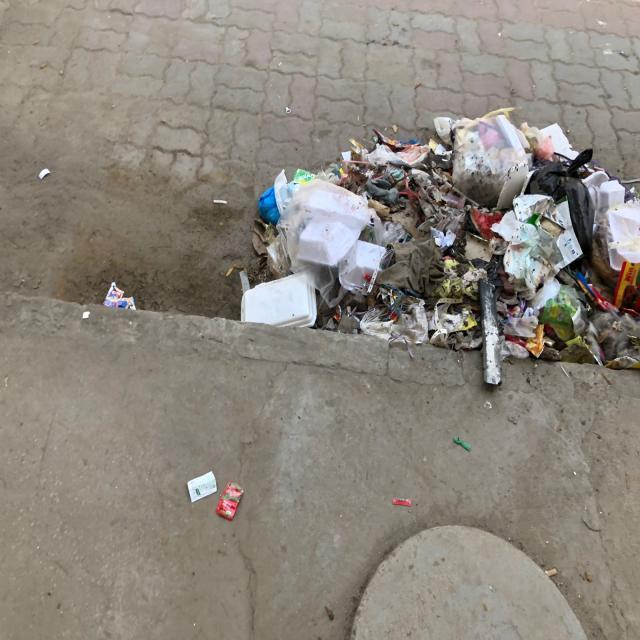garbage: (38, 144, 640, 478), (186, 472, 261, 529)
